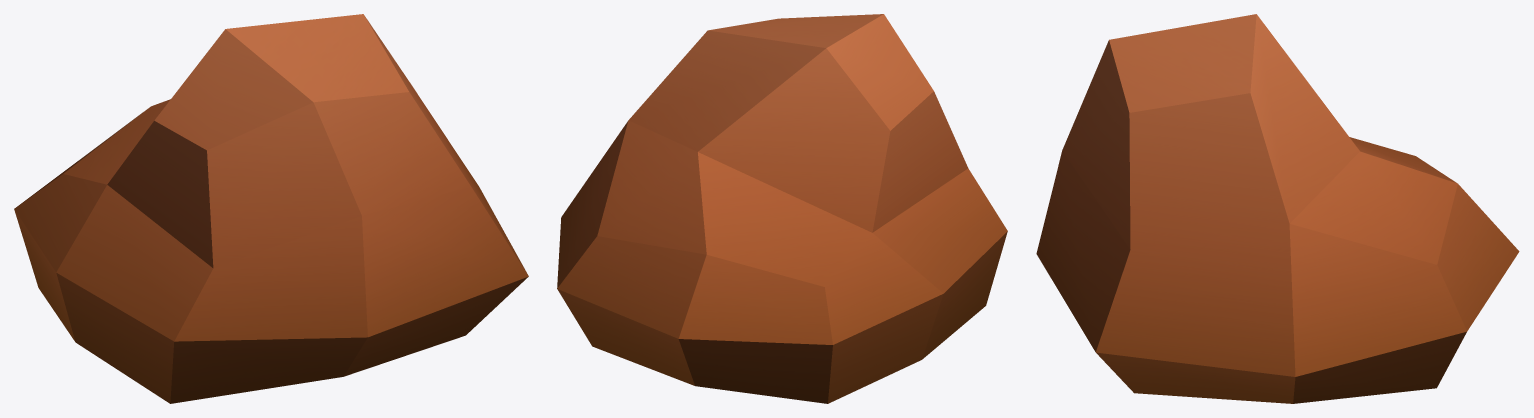
File: rock3.fbx
3 views of the same model, side by side, from view 1: azimuth 30°, elevation 25°; view 2: azimuth 150°, elevation 25°; view 3: azimuth 270°, elevation 25° (orthographic). The views are drawn at different scales.
Parts seen in each view (by area): view 1: Cube.006; view 2: Cube.006; view 3: Cube.006.
Part boxes in pixels (left/top/right/bottom): Cube.006: left=14, top=14, right=528, bottom=403; Cube.006: left=557, top=14, right=1007, bottom=403; Cube.006: left=1036, top=14, right=1519, bottom=403.
Size of the model in its own units: 162 by 111 by 165.
